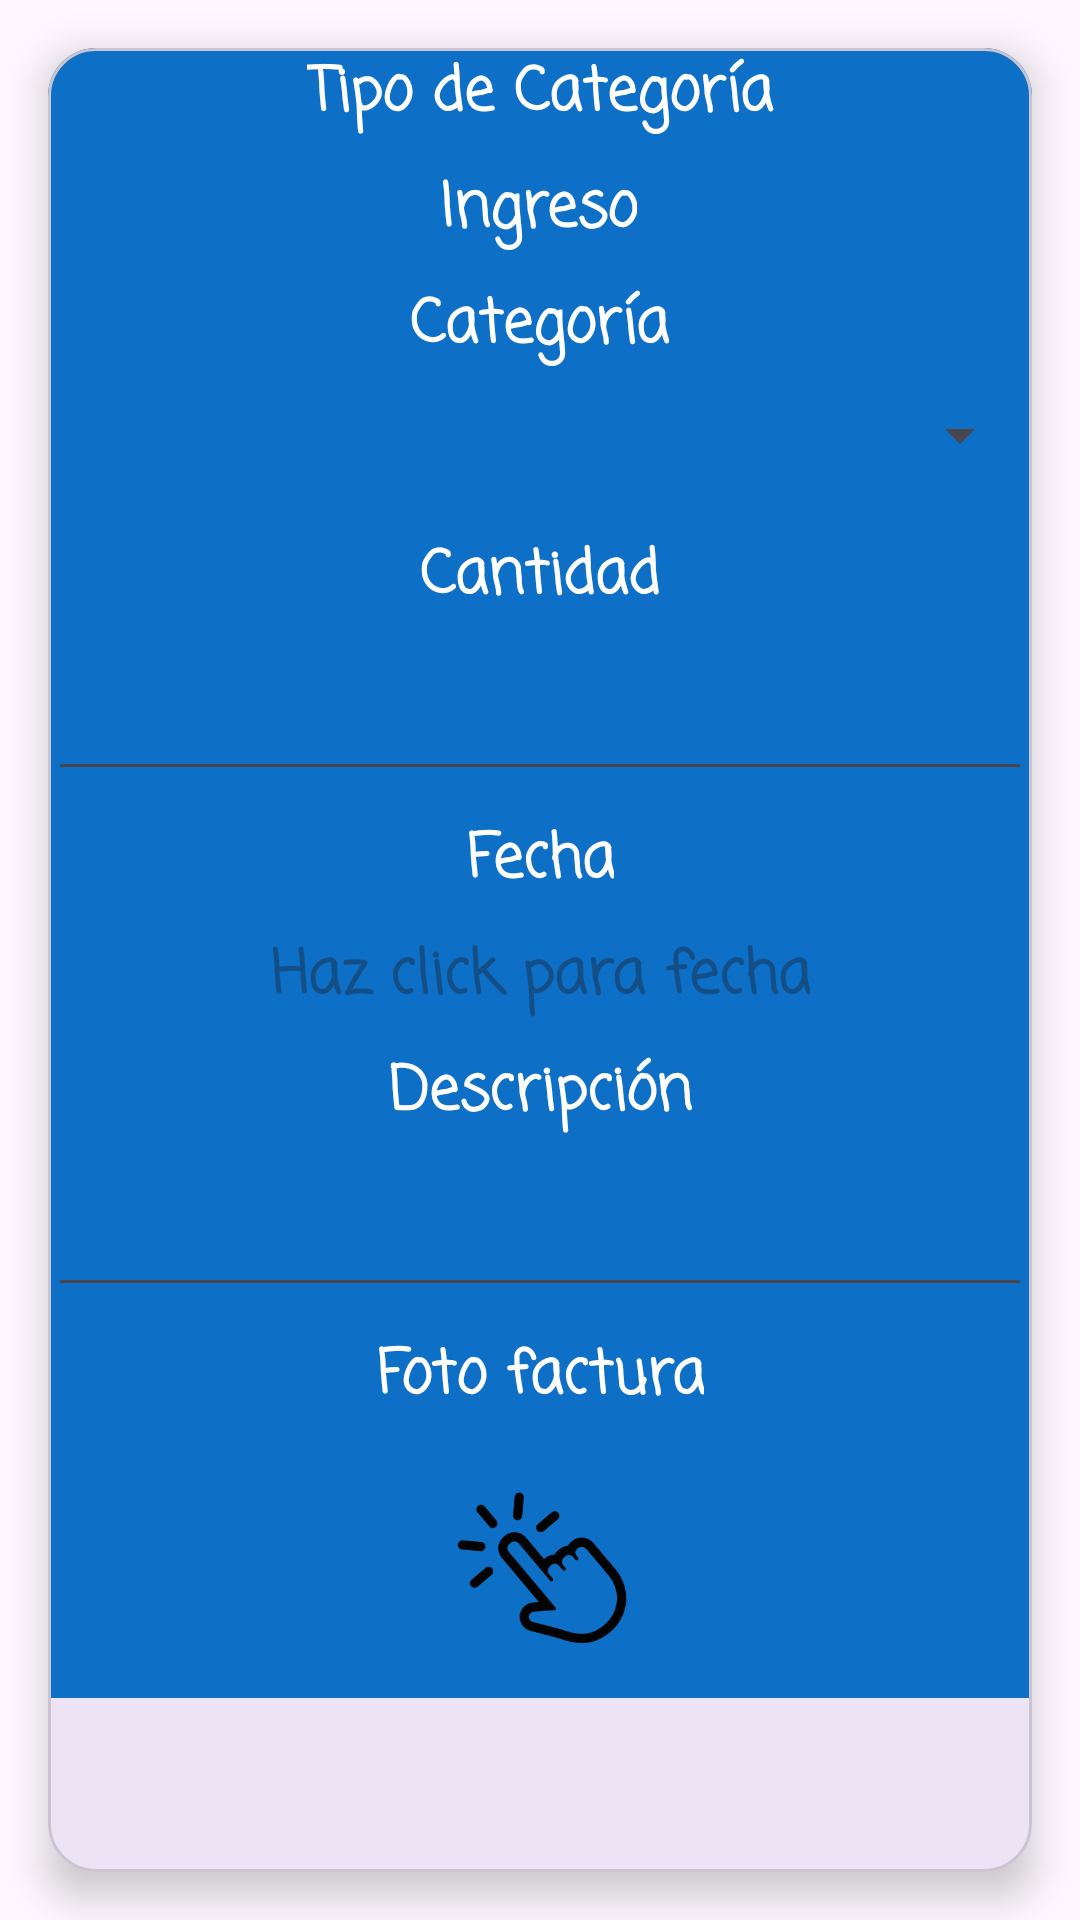

Locate icon controls on the screen. Image size 1080x1920, boxes as [left=x1, top=y1, right=x2, bottom=y2].
click: [left=457, top=1492, right=627, bottom=1643]
